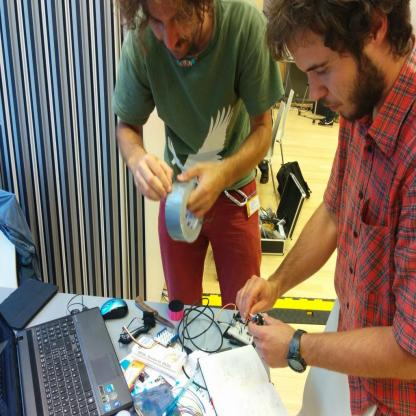board: (0, 304, 132, 415)
